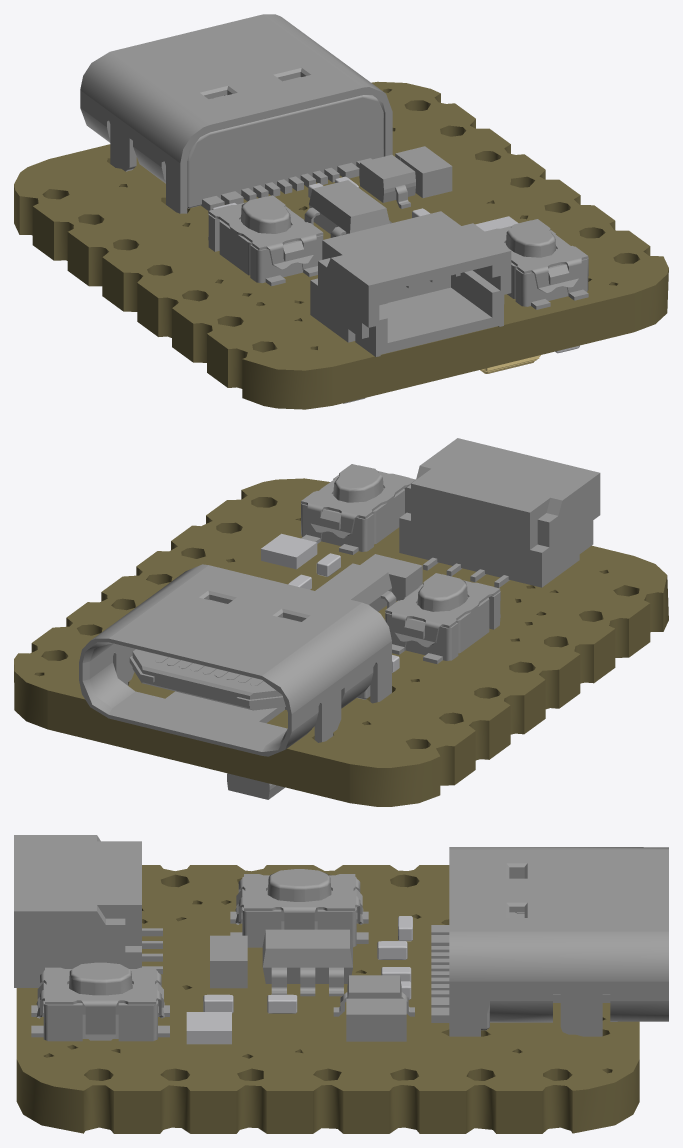
File: ada-4900.glb
The picture shows the model from 3 angles, top to bottom: view 1: azimuth 30°, elevation 25°; view 2: azimuth 150°, elevation 25°; view 3: azimuth 270°, elevation 25°; orthographic projection. The views are drawn at different scales.
Parts seen in each view (by area): view 1: 0.3333333333333333_0.3333333333333333_0.3333333333333333_0, 0.16666666666666666_0.16666666666666666_0.08333333333333333_, 0.5833333333333334_0.5833333333333334_0.5833333333333334_0.8; view 2: 0.3333333333333333_0.3333333333333333_0.3333333333333333_0, 0.16666666666666666_0.16666666666666666_0.08333333333333333_, 0.5833333333333334_0.5833333333333334_0.5833333333333334_0.8; view 3: 0.3333333333333333_0.3333333333333333_0.3333333333333333_0, 0.16666666666666666_0.16666666666666666_0.08333333333333333_, 0.5833333333333334_0.5833333333333334_0.5833333333333334_0.8.
Boxes of the visible parts, x1,y1,x2,y2 form: 0.3333333333333333_0.3333333333333333_0.3333333333333333_0: (80,14,588,403); 0.16666666666666666_0.16666666666666666_0.08333333333333333_: (14,81,668,409); 0.5833333333333334_0.5833333333333334_0.5833333333333334_0.8: (212,176,579,353); 0.3333333333333333_0.3333333333333333_0.3333333333333333_0: (79,438,600,799); 0.16666666666666666_0.16666666666666666_0.08333333333333333_: (14,478,668,806); 0.5833333333333334_0.5833333333333334_0.5833333333333334_0.8: (261,533,399,672); 0.3333333333333333_0.3333333333333333_0.3333333333333333_0: (14,835,668,1041); 0.16666666666666666_0.16666666666666666_0.08333333333333333_: (16,865,639,1133); 0.5833333333333334_0.5833333333333334_0.5833333333333334_0.8: (186,916,412,1044).
Bounding box in the file's own units: 1.78 × 0.587 × 2.18.
